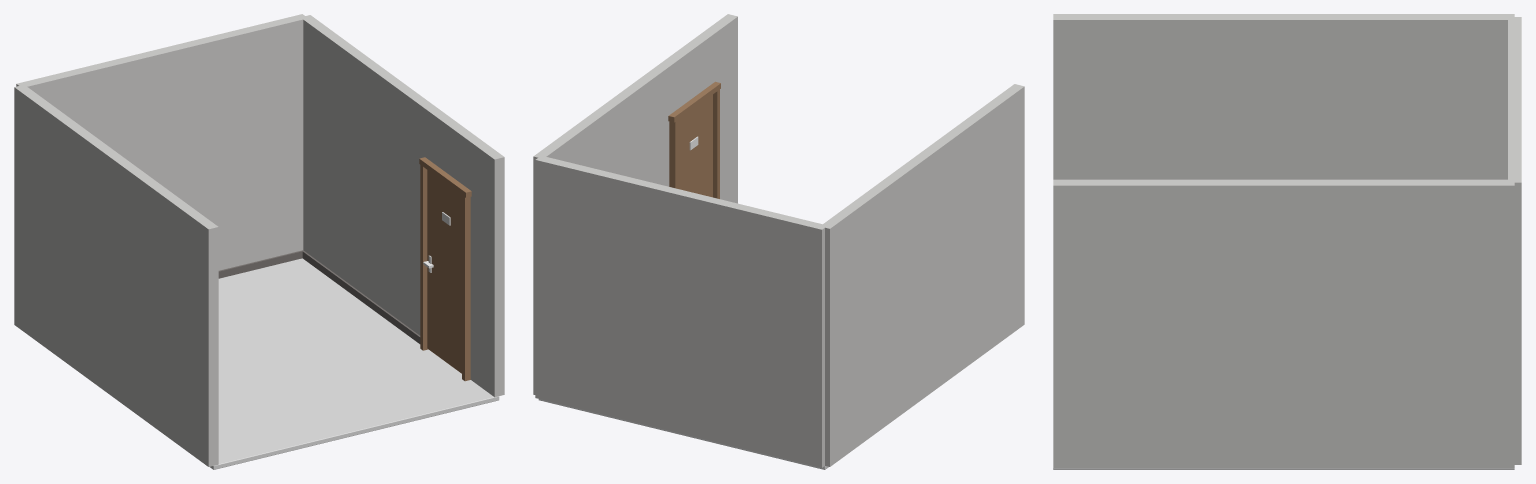
File: room_structure.fbx
The picture shows the model from 3 angles, left to right: view 1: azimuth 30°, elevation 25°; view 2: azimuth 150°, elevation 25°; view 3: azimuth 270°, elevation 25°; orthographic projection. The views are drawn at different scales.
Visible parts, largest first — view 1: Dinding_Kiri, Dinding_Kanan, Dinding_Belakang, Lantai_Keramik, Daun_Pintu, Kusen_Pintu_Kiri, Kusen_Pintu_Kanan, Plint_Kanan_Belakang, Plint_Belakang, Kusen_Pintu_Atas; view 2: Dinding_Belakang, Dinding_Kiri, Dinding_Kanan, Daun_Pintu, Kusen_Pintu_Kiri, Kusen_Pintu_Kanan, Lantai_Keramik, Kusen_Pintu_Atas; view 3: Dinding_Kanan, Dinding_Kiri, Dinding_Belakang, Lantai_Keramik.
Boxes of the visible parts, <box> form: Dinding_Kiri: <box>14,85,218,466</box>; Dinding_Kanan: <box>301,15,504,397</box>; Dinding_Belakang: <box>16,14,307,270</box>; Lantai_Keramik: <box>210,258,499,469</box>; Daun_Pintu: <box>427,170,461,373</box>; Kusen_Pintu_Kiri: <box>462,195,470,381</box>; Kusen_Pintu_Kanan: <box>420,165,427,350</box>; Plint_Kanan_Belakang: <box>302,251,420,343</box>; Plint_Belakang: <box>218,250,303,278</box>; Kusen_Pintu_Atas: <box>419,157,471,197</box>; Dinding_Belakang: <box>535,156,826,467</box>; Dinding_Kiri: <box>820,84,1024,466</box>; Dinding_Kanan: <box>533,14,737,394</box>; Daun_Pintu: <box>678,94,712,197</box>; Kusen_Pintu_Kiri: <box>713,89,719,198</box>; Kusen_Pintu_Kanan: <box>669,119,678,188</box>; Lantai_Keramik: <box>538,399,828,469</box>; Kusen_Pintu_Atas: <box>668,81,720,122</box>; Dinding_Kanan: <box>1053,179,1514,467</box>; Dinding_Kiri: <box>1053,14,1514,179</box>; Dinding_Belakang: <box>1508,17,1521,464</box>; Lantai_Keramik: <box>1053,468,1514,469</box>.
Bounding box in the file's own units: 3.52 × 2.75 × 4.06.
